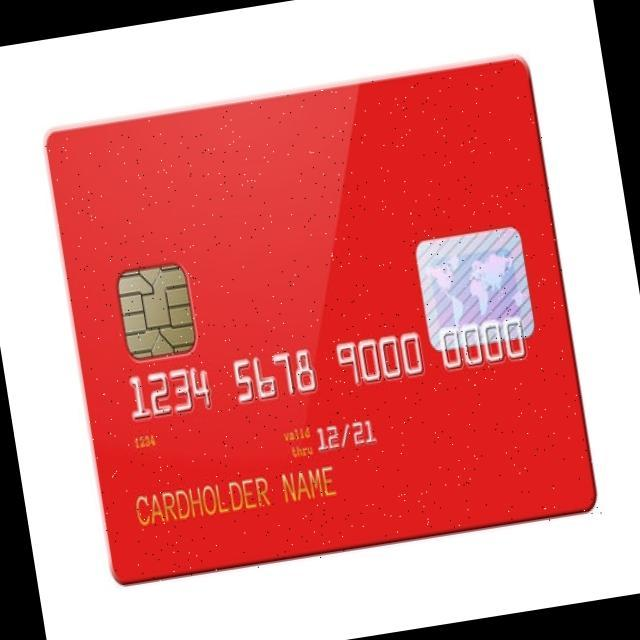payment_card: (42, 54, 598, 585)
